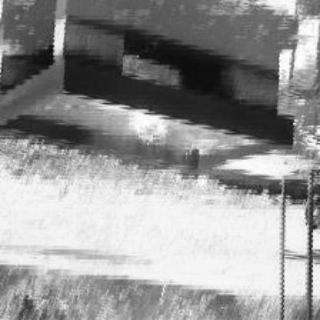Fire: (123, 114, 223, 164)
